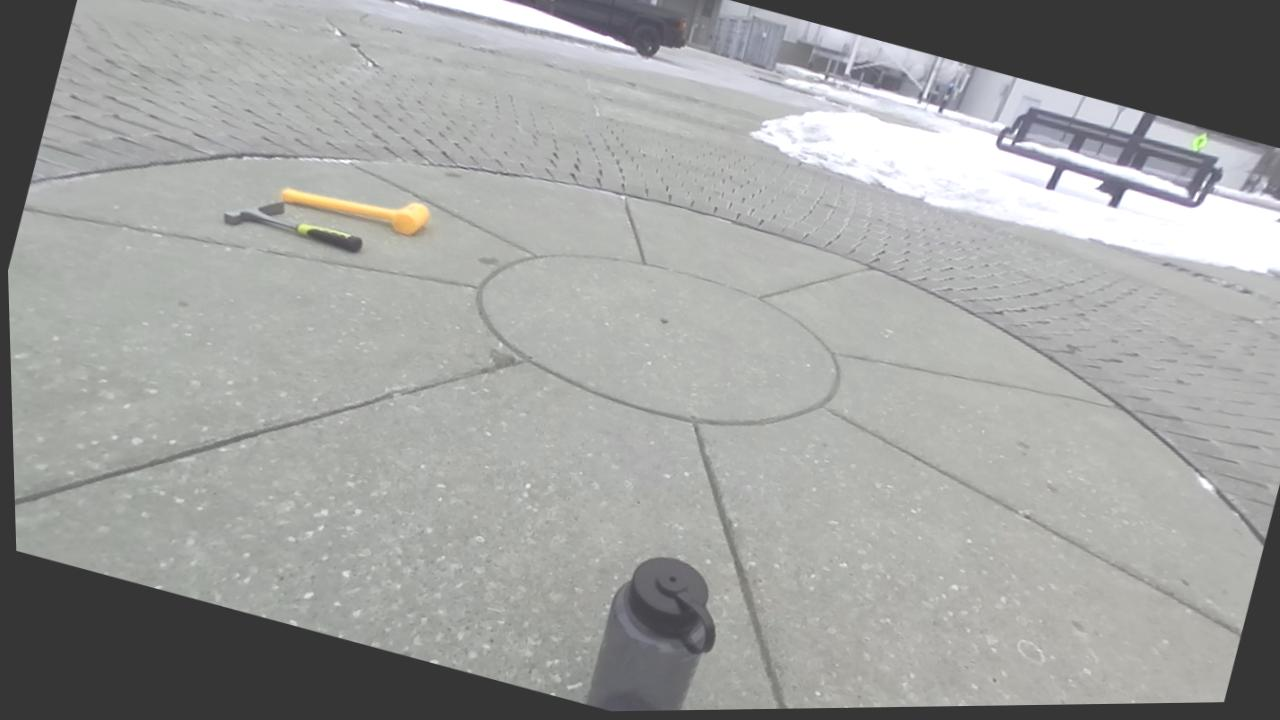bottle: (587, 557, 715, 711)
mallet: (281, 188, 430, 234)
pick: (223, 202, 363, 252)
